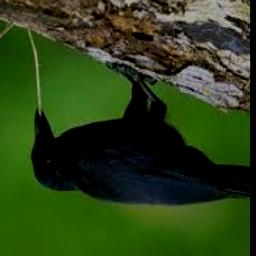Crow: (30, 61, 250, 208)
